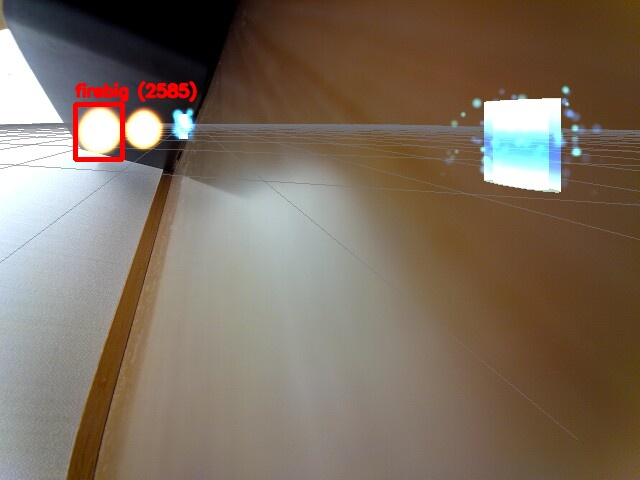firebig: (75, 104, 122, 159)
